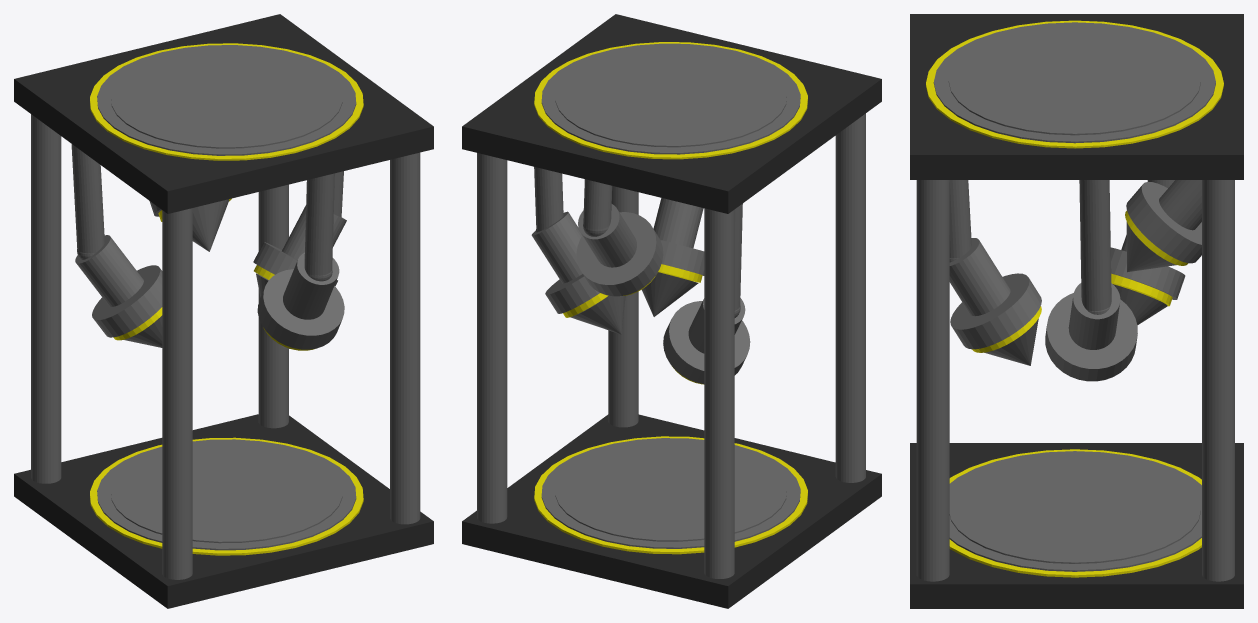
Rendered from ore_drill.fbx.
3 views of the same model, side by side, from view 1: azimuth 30°, elevation 25°; view 2: azimuth 150°, elevation 25°; view 3: azimuth 270°, elevation 25° (orthographic). The views are drawn at different scales.
Visible parts, largest first — view 1: Cube.001, Cube, Cylinder.023, Cylinder.006, Cylinder.001, Cylinder.002, Cylinder, Cylinder.024, Cylinder.003, Cylinder.005, Cylinder.012, Cylinder.025 (+10 smaller); view 2: Cube.001, Cube, Cylinder.023, Cylinder.006, Cylinder, Cylinder.003, Cylinder.001, Cylinder.024, Cylinder.005, Cylinder.002, Cylinder.008, Cylinder.025 (+13 smaller); view 3: Cube.001, Cylinder.023, Cylinder.006, Cube, Cylinder.002, Cylinder.003, Cylinder.024, Cylinder.005, Cylinder.020, Cylinder.022, Cylinder.025, Cylinder.012 (+13 smaller).
Boxes of the visible parts, box(x1,y1,x2,y2) form: Cube.001: box(14, 14, 433, 213); Cube: box(14, 414, 433, 608); Cylinder.023: box(111, 49, 342, 148); Cylinder.006: box(111, 444, 342, 543); Cylinder.001: box(162, 208, 192, 579); Cylinder.002: box(390, 152, 420, 524); Cylinder: box(31, 114, 61, 483); Cylinder.024: box(97, 45, 356, 155); Cylinder.003: box(258, 184, 288, 428); Cylinder.005: box(97, 439, 356, 550); Cylinder.012: box(257, 269, 344, 349); Cylinder.025: box(90, 43, 363, 160); Cube.001: box(462, 14, 881, 213); Cube: box(462, 414, 881, 608); Cylinder.023: box(555, 48, 786, 147); Cylinder.006: box(555, 442, 786, 541); Cylinder: box(704, 208, 734, 578); Cylinder.003: box(477, 153, 507, 523); Cylinder.001: box(835, 113, 865, 482); Cylinder.024: box(541, 43, 800, 154); Cylinder.005: box(541, 438, 800, 548); Cylinder.002: box(608, 186, 638, 427); Cylinder.008: box(576, 212, 663, 296); Cylinder.025: box(534, 42, 807, 159); Cube.001: box(910, 14, 1243, 179); Cylinder.023: box(948, 27, 1200, 135); Cylinder.006: box(949, 456, 1200, 563); Cube: box(910, 443, 1243, 608); Cylinder.002: box(916, 180, 949, 581); Cylinder.003: box(1202, 180, 1234, 581); Cylinder.024: box(933, 22, 1215, 143); Cylinder.005: box(949, 451, 1201, 571); Cylinder.020: box(1045, 293, 1137, 381); Cylinder.022: box(1079, 180, 1111, 314); Cylinder.025: box(926, 20, 1223, 148); Cylinder.012: box(950, 273, 1041, 349).
Size of the model in its own units: 121 by 184 by 121.
